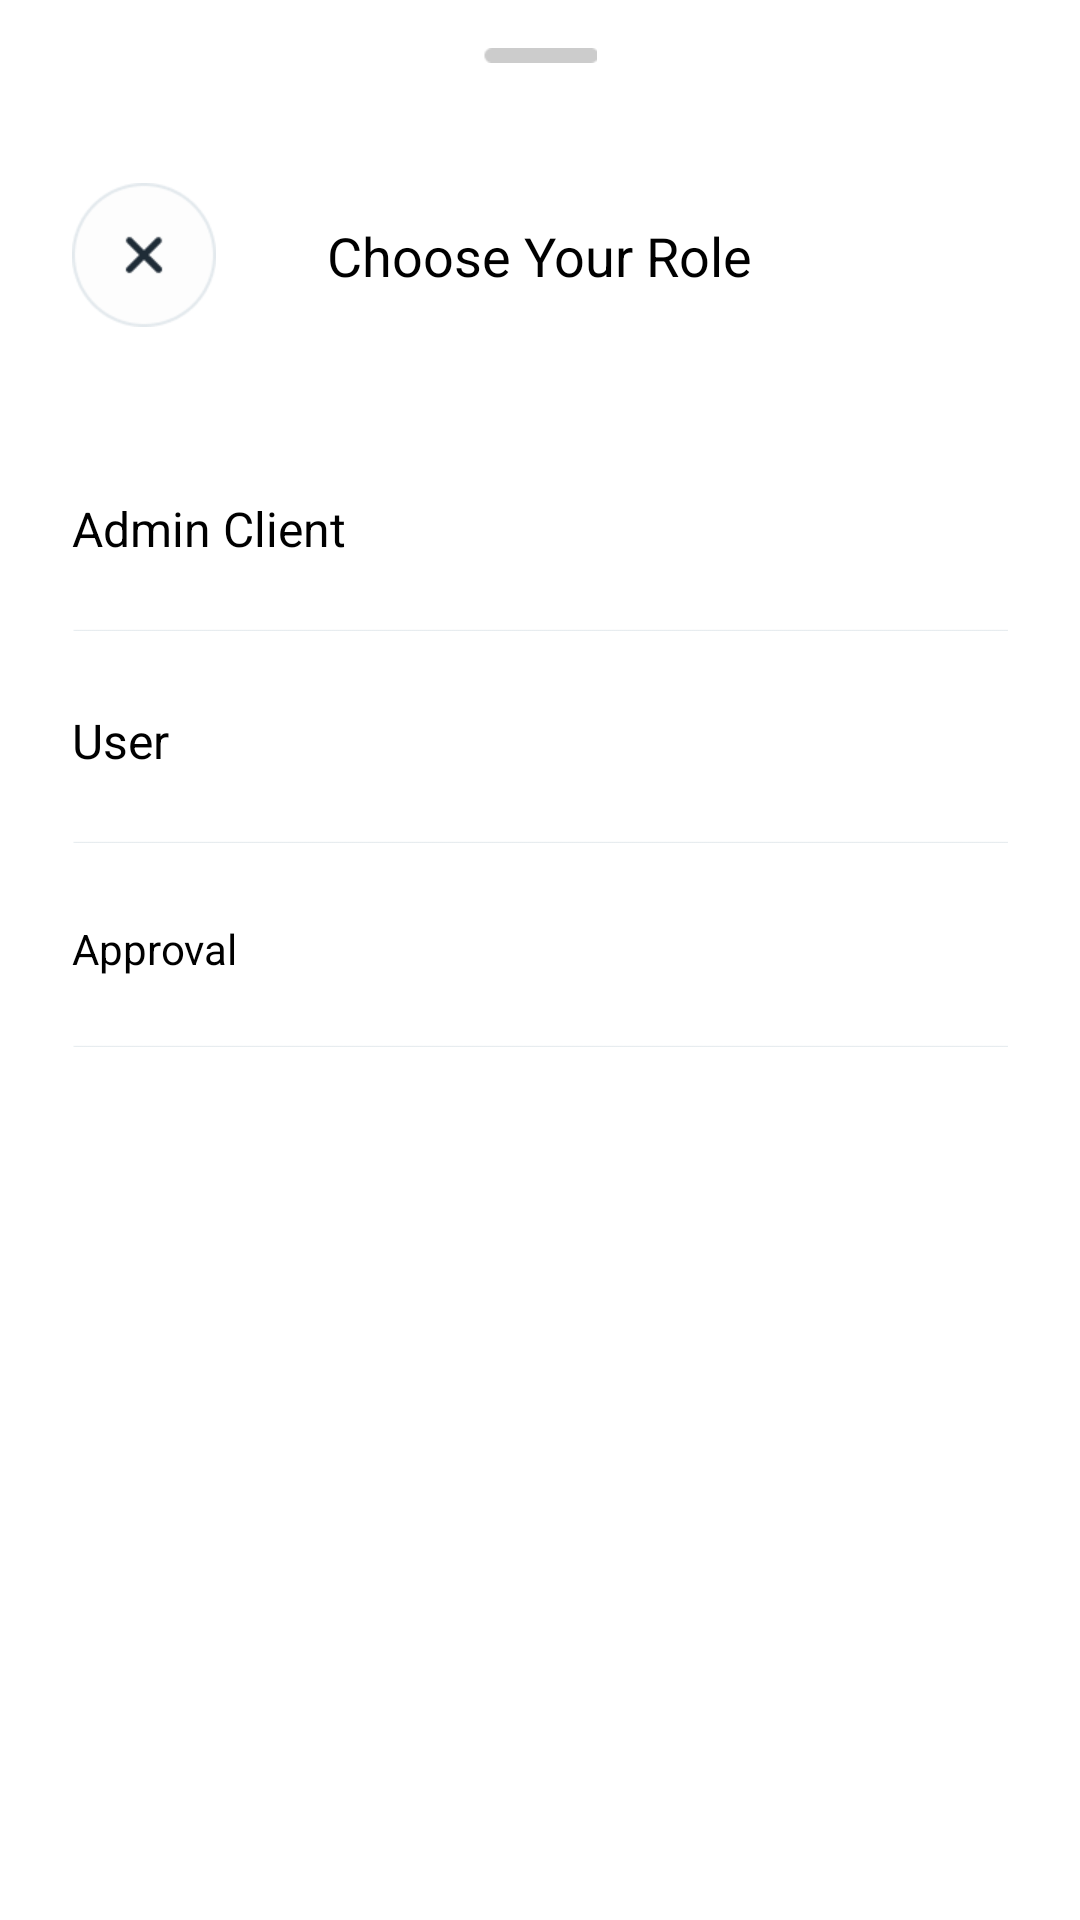

Where to tap for icons on this 1080px x 1920px app screen, as (x,y):
bottom sheet close: (144,255)
